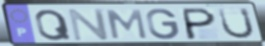G: (145, 7, 181, 41)
M: (105, 9, 149, 40)
N: (67, 8, 112, 42)
P: (182, 7, 218, 41)
Q: (33, 8, 74, 42)
U: (217, 7, 257, 41)
